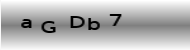7: (108, 13, 122, 27)
D: (69, 14, 86, 29)
G: (40, 20, 57, 34)
a: (20, 19, 32, 29)
b: (87, 16, 101, 31)
